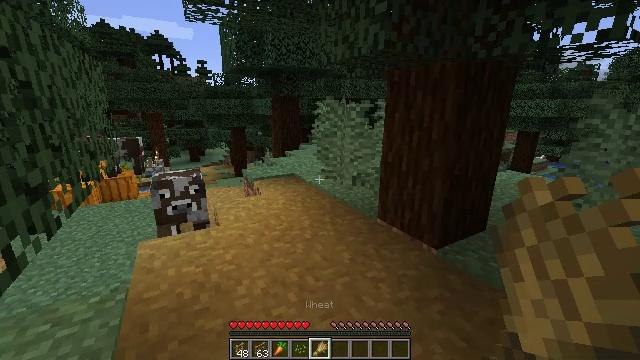cow: (152, 171, 209, 233)
